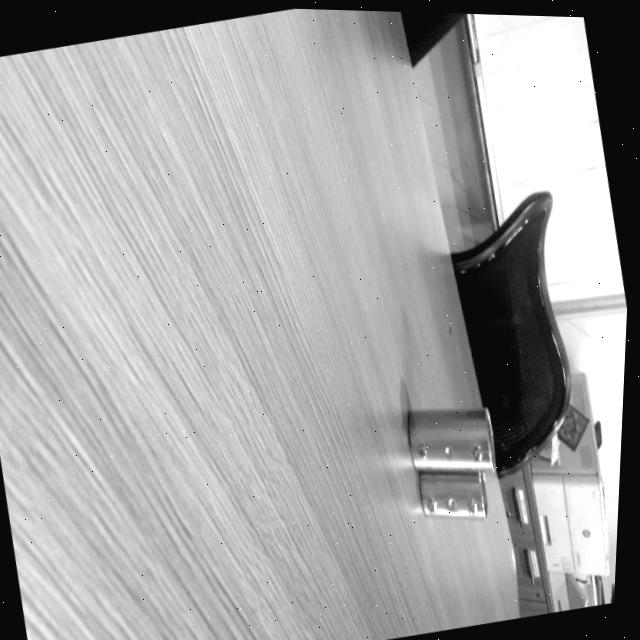Co_Lon: (408, 407, 495, 473)
Co_Nho: (419, 471, 487, 518)
